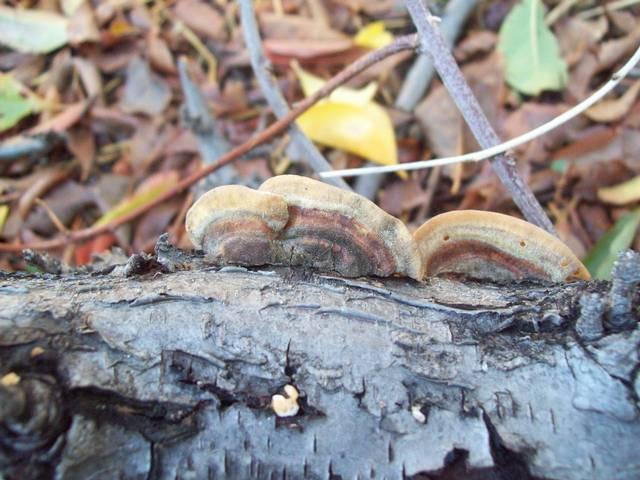Non-edible Mushroom: (184, 172, 592, 285), (410, 207, 591, 285)
